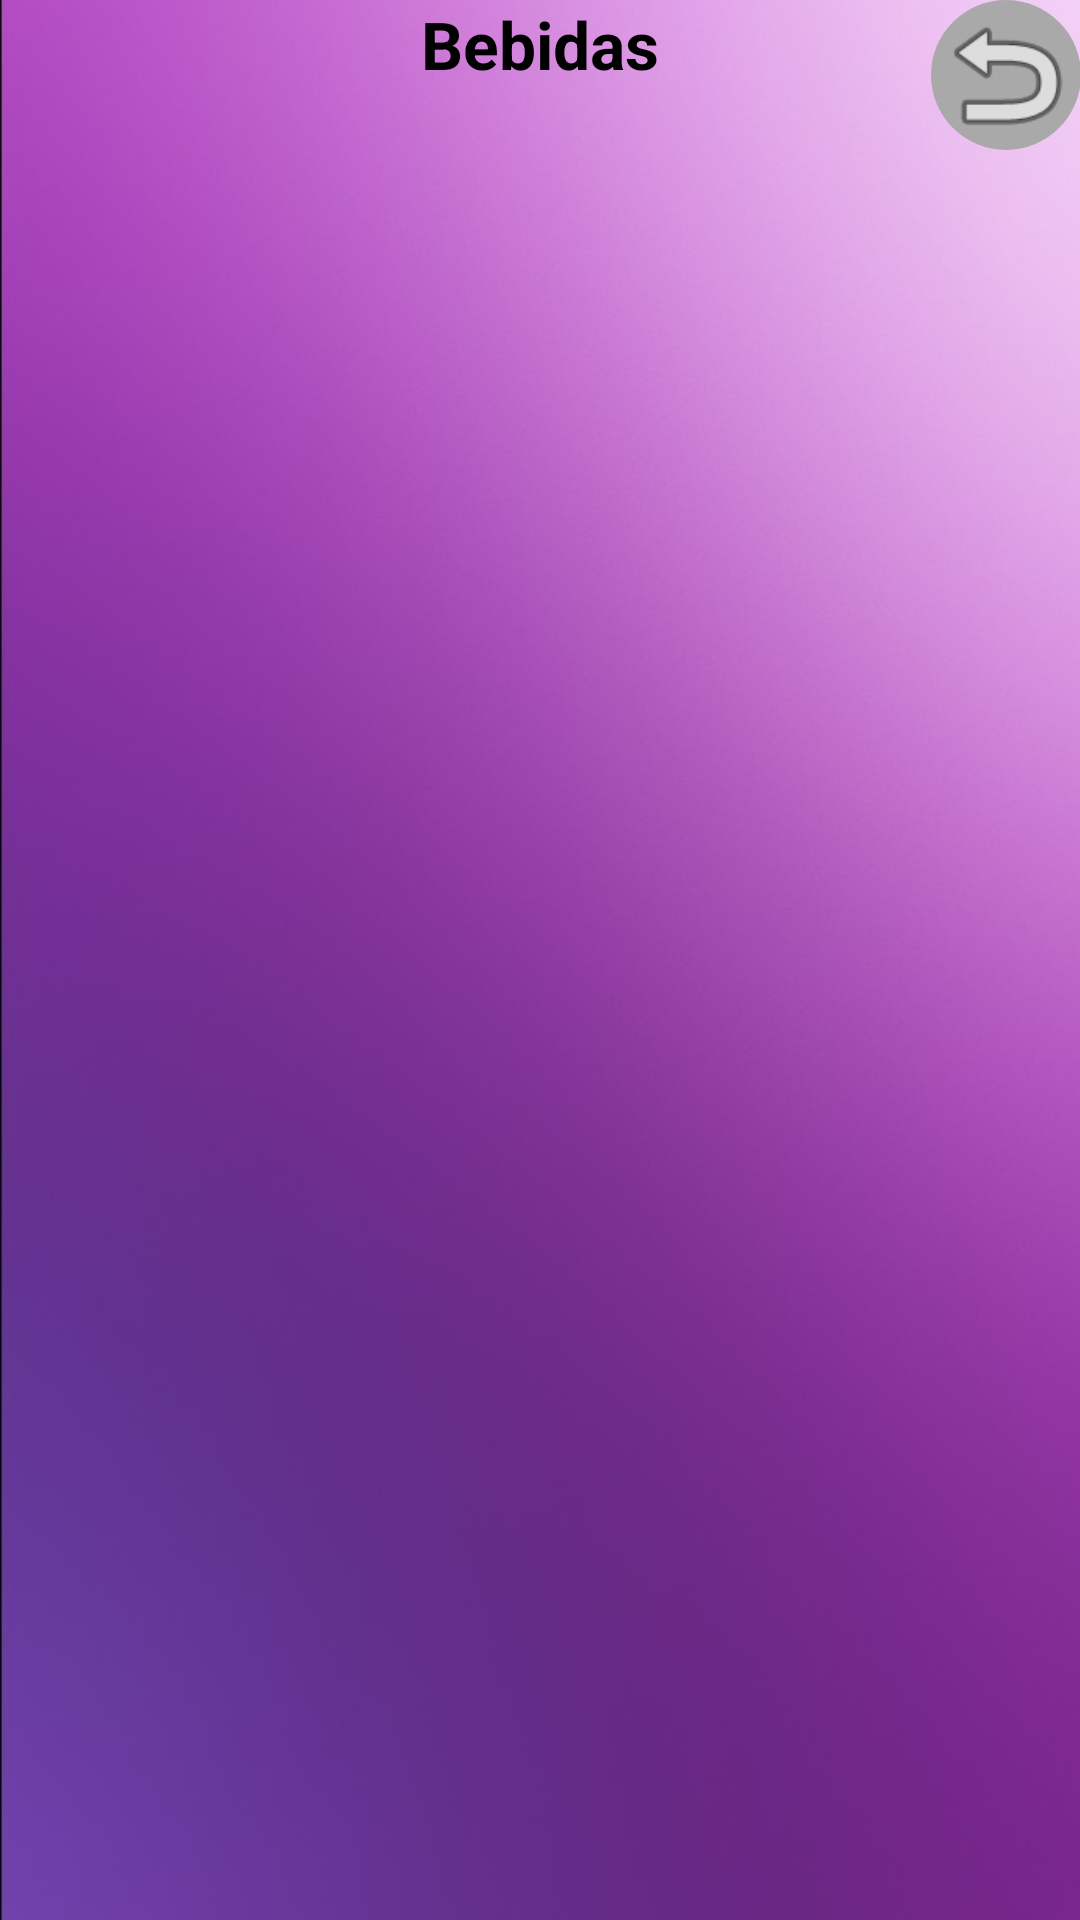

Named icons in this screenshot (1080 × 1920) and their bounding boxes, (x1, y1, x2, y2):
revert: (931, 0, 1080, 150)
